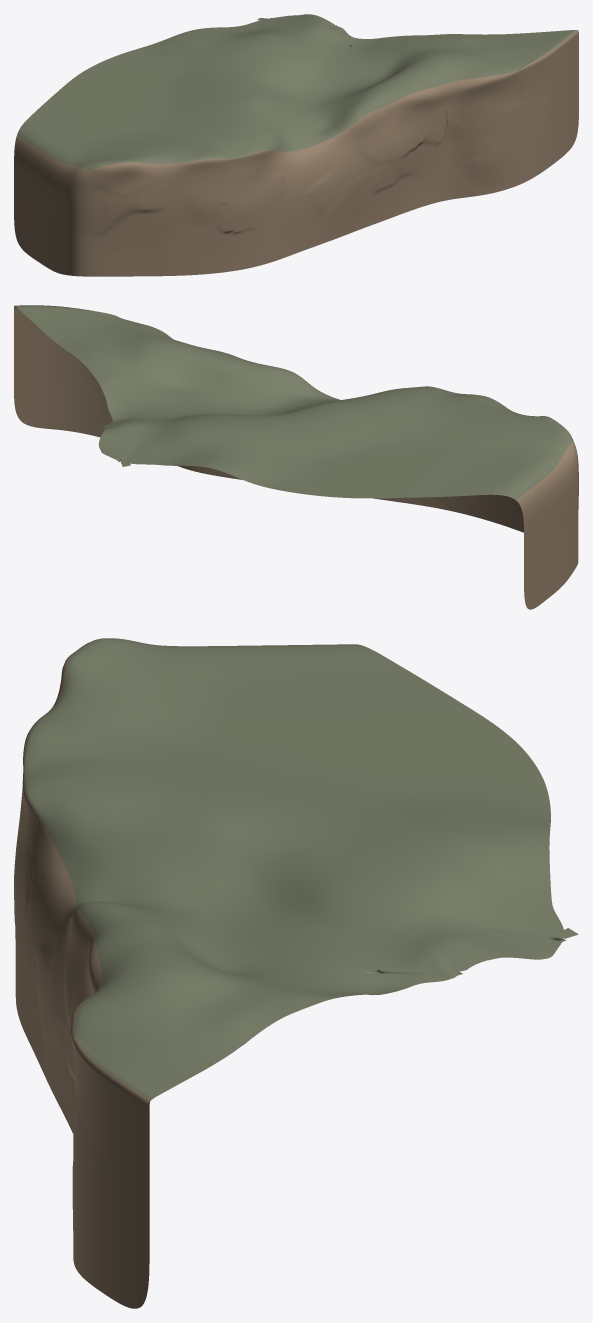
Rendered from terrace_mid L.fbx.
The picture shows the model from 3 angles, top to bottom: view 1: azimuth 30°, elevation 25°; view 2: azimuth 150°, elevation 25°; view 3: azimuth 270°, elevation 25°; orthographic projection. The views are drawn at different scales.
Visible parts, largest first — view 1: mid ground L; view 2: mid ground L; view 3: mid ground L.
Boxes of the visible parts, box(x1,y1,x2,y2) form: mid ground L: box(14, 14, 578, 276); mid ground L: box(14, 305, 578, 609); mid ground L: box(14, 638, 578, 1308).
Size of the model in its own units: 23.69 by 5.56 by 11.47.
